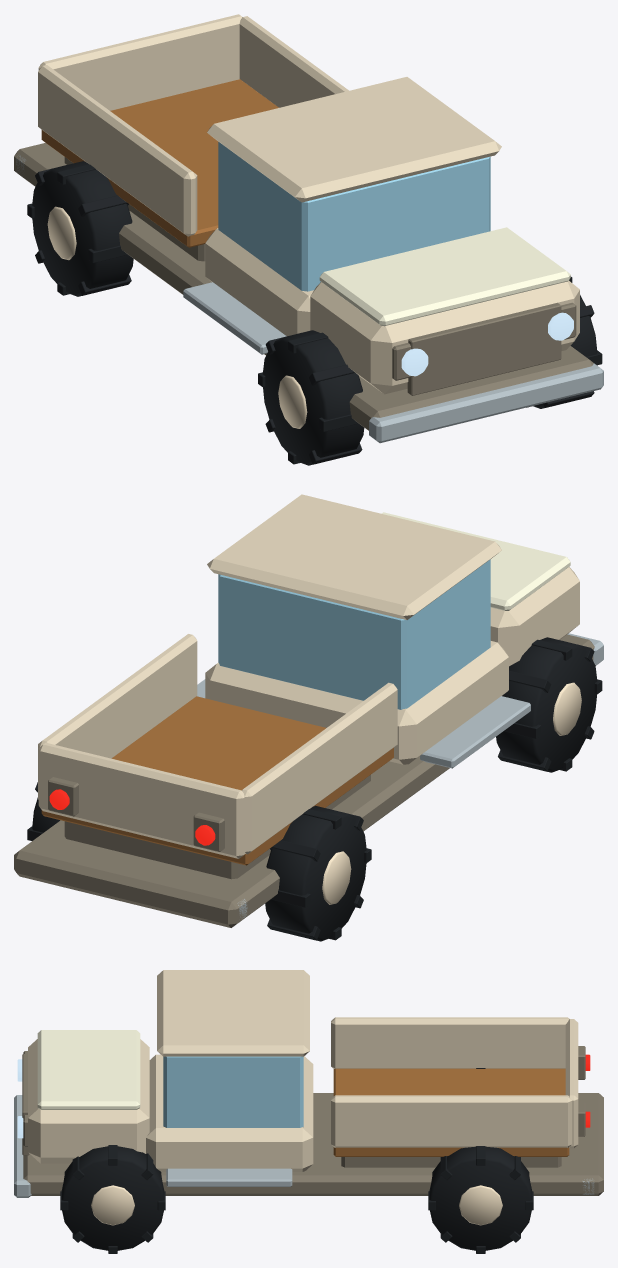
Rendered from FTF_Vehicle_RuralPickup_Cream_5_5m.glb.
3 views of the same model, one above another, from view 1: azimuth 30°, elevation 25°; view 2: azimuth 150°, elevation 25°; view 3: azimuth 270°, elevation 25° (orthographic). The views are drawn at different scales.
Visible parts, largest first — view 1: FTF_Vehicle_RuralPickup_Cream_5_5m_Static, Wheel_RL_Mesh, Wheel_FL_Mesh, Wheel_FR_Mesh; view 2: FTF_Vehicle_RuralPickup_Cream_5_5m_Static, Wheel_RL_Mesh, Wheel_FL_Mesh, Wheel_RR_Mesh; view 3: FTF_Vehicle_RuralPickup_Cream_5_5m_Static, Wheel_FR_Mesh, Wheel_RR_Mesh.
Part boxes in pixels (x1,y1,x2,y2): FTF_Vehicle_RuralPickup_Cream_5_5m_Static: (14, 14, 603, 443); Wheel_RL_Mesh: (27, 161, 133, 296); Wheel_FL_Mesh: (258, 330, 364, 465); Wheel_FR_Mesh: (526, 276, 602, 408); FTF_Vehicle_RuralPickup_Cream_5_5m_Static: (14, 494, 603, 927); Wheel_RL_Mesh: (265, 805, 371, 941); Wheel_FL_Mesh: (496, 637, 602, 772); Wheel_RR_Mesh: (27, 782, 59, 840); FTF_Vehicle_RuralPickup_Cream_5_5m_Static: (14, 970, 603, 1197); Wheel_FR_Mesh: (60, 1145, 165, 1253); Wheel_RR_Mesh: (428, 1146, 533, 1253).
Size of the model in its own units: 2.45 by 2.02 by 5.63.
